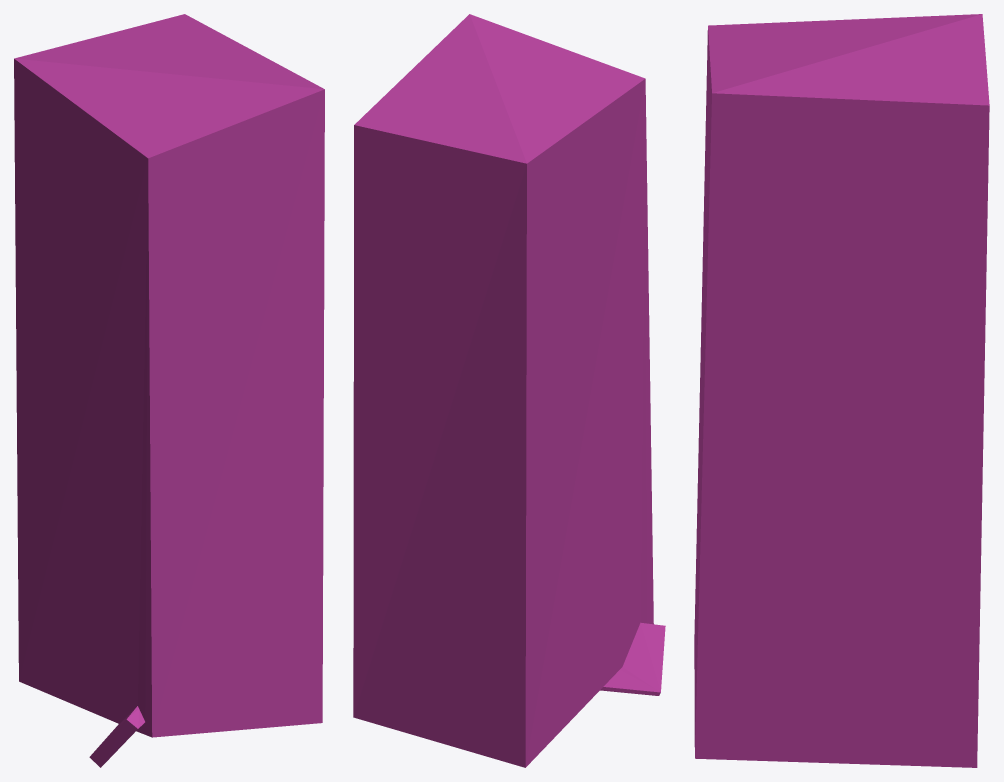
3 views of the same model, side by side, from view 1: azimuth 30°, elevation 25°; view 2: azimuth 150°, elevation 25°; view 3: azimuth 270°, elevation 25° (orthographic). The views are drawn at different scales.
Visible parts, largest first — view 1: 989_Cube.3990; view 2: 989_Cube.3990; view 3: 989_Cube.3990.
Part boxes in pixels (bbox=[...]): 989_Cube.3990: bbox=[14, 14, 324, 767]; 989_Cube.3990: bbox=[353, 14, 665, 767]; 989_Cube.3990: bbox=[694, 14, 989, 767].
Bounding box in the file's own units: 4.49 × 12.89 × 4.95.
